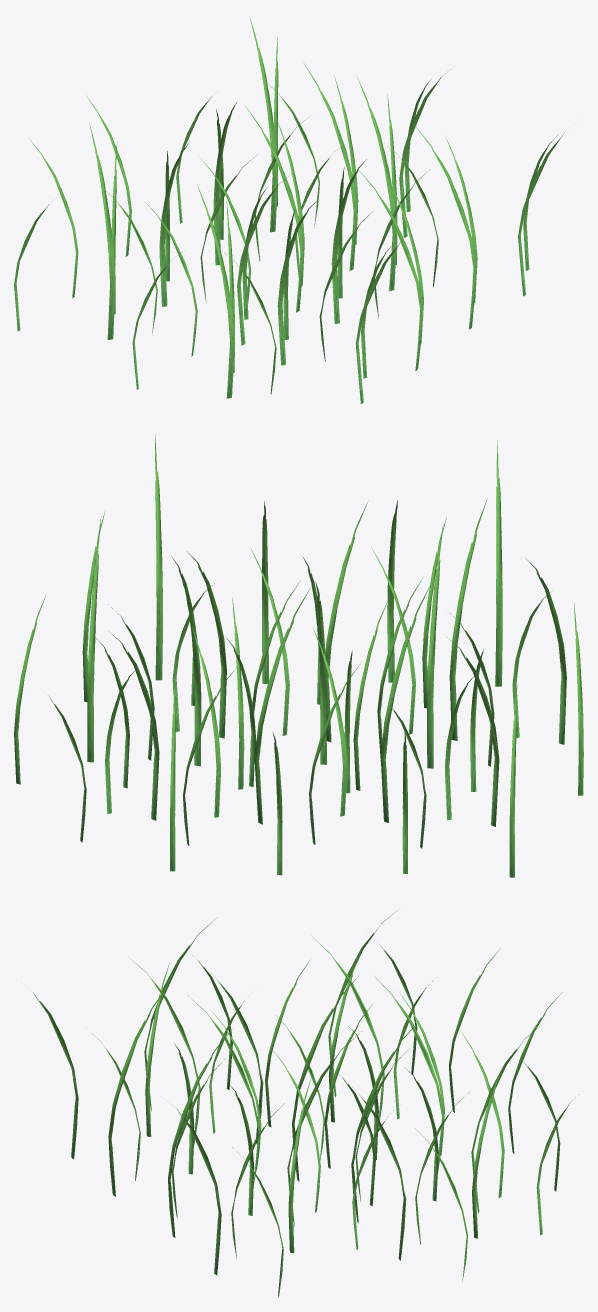
The model's file is grass.FBX.
3 views of the same model, one above another, from view 1: azimuth 30°, elevation 25°; view 2: azimuth 150°, elevation 25°; view 3: azimuth 270°, elevation 25° (orthographic). The views are drawn at different scales.
Parts seen in each view (by area): view 1: Plane039, Plane032, Plane021, Plane002, Plane038, Plane035, Plane020, Plane044, Plane005, Plane011, Plane033, Plane014 (+5 smaller); view 2: Plane023, Plane008, Plane026, Plane041, Plane020, Plane038, Plane033, Plane035, Plane014, Plane002, Plane044, Plane005 (+28 smaller); view 3: Plane014, Plane011, Plane010, Plane025, Plane035, Plane008, Plane023, Plane044, Plane034, Plane033, Plane026, Plane043 (+10 smaller).
Part boxes in pixels (x1,y1,x2,y2): Plane039: (89,123,115,339); Plane032: (249,16,277,232); Plane021: (197,185,234,398); Plane002: (357,77,397,291); Plane038: (159,142,189,306); Plane035: (303,62,357,270); Plane020: (277,200,317,365); Plane044: (245,106,304,312); Plane005: (331,159,366,323); Plane011: (415,125,476,329); Plane033: (213,101,237,265); Plane014: (358,169,423,370); Plane023: (495,440,502,686); Plane008: (155,434,162,680); Plane026: (87,516,101,762); Plane041: (427,524,443,768); Plane020: (449,498,487,740); Plane038: (380,583,431,822); Plane033: (254,587,310,824); Plane035: (182,582,201,766); Plane014: (387,500,397,682); Plane002: (187,551,226,738); Plane044: (315,582,326,764); Plane005: (325,500,368,742); Plane014: (108,985,168,1196); Plane011: (168,1029,231,1237); Plane010: (288,1079,310,1253); Plane025: (145,963,169,1136); Plane035: (351,1018,422,1223); Plane008: (171,1104,221,1275); Plane023: (33,992,78,1159); Plane044: (292,976,358,1181); Plane034: (472,1072,501,1238); Plane033: (373,975,444,1173); Plane026: (352,1087,406,1260); Plane043: (328,954,360,1122).
Bounding box in the file's own units: 98.42 × 40.69 × 104.
Materials: 1 (1 with a texture image).
